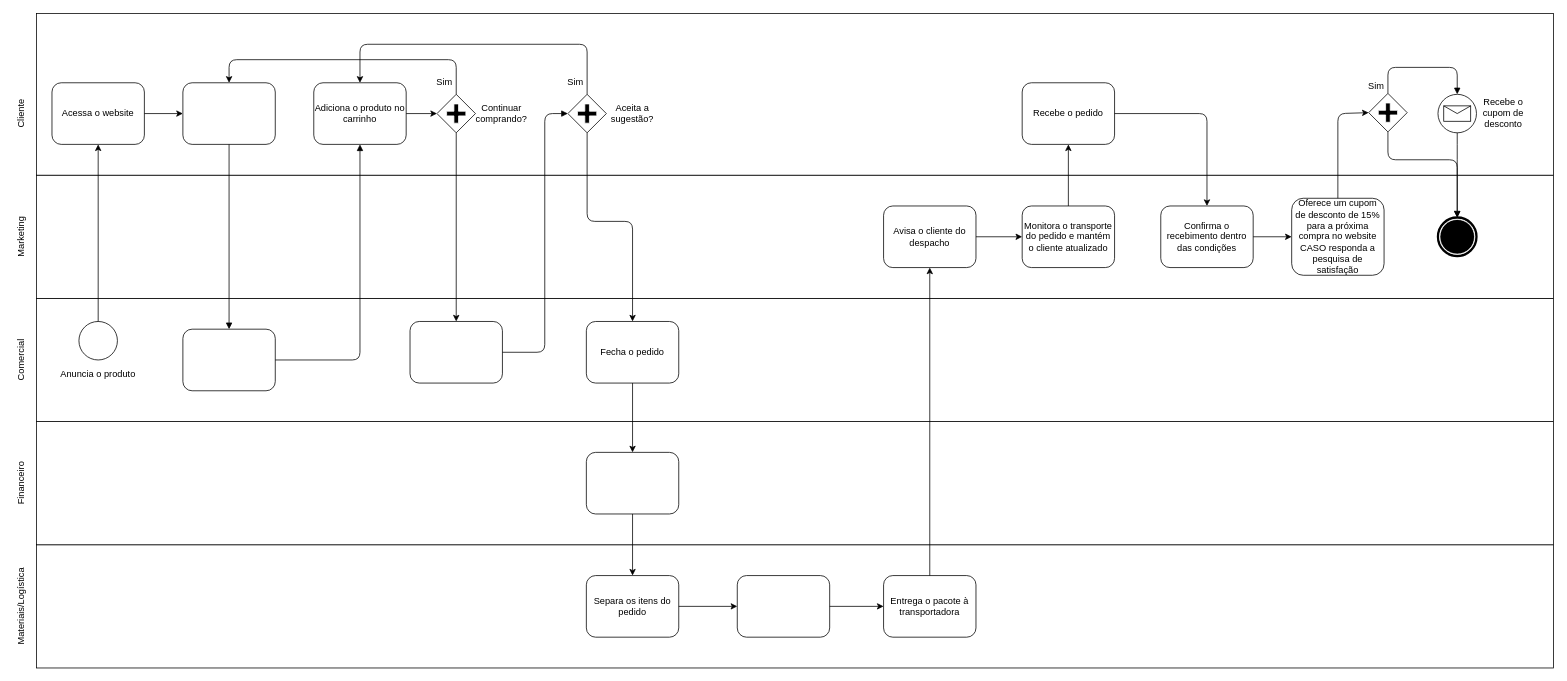
The diagram is 1567 pixels wide and 681 high, and some of its shapes have lost their labels. Here are the shapes that lost their labels. From the top down, the centre of each, then its label:
At point 228,113: "Escolhe o produto".
At point 228,359: "Apresenta as informações detalhadas do produto".
At point 455,352: "Sugere produtos relacionados".
At point 632,483: "Realiza a cobrança".
At point 783,606: "Embala os itens do pedido".
